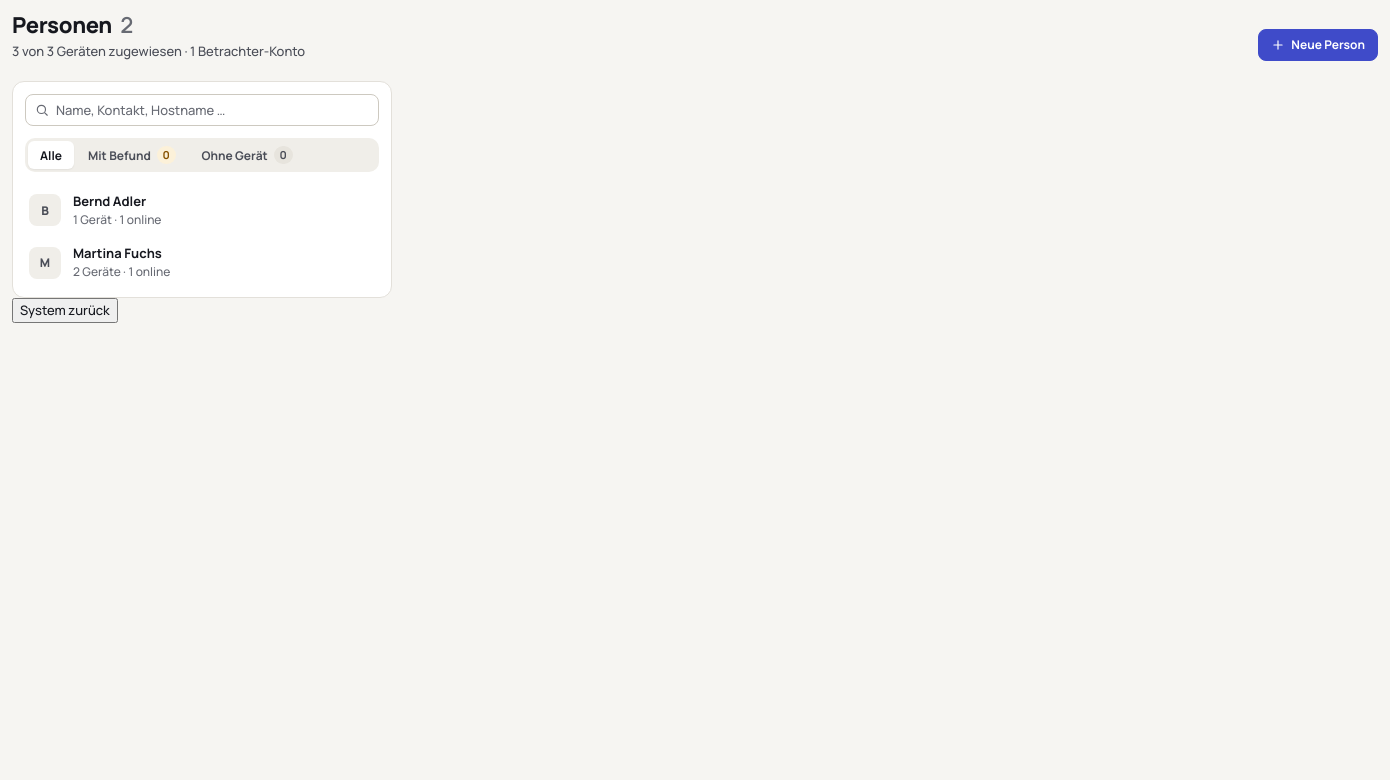
Test: PersonsPage › shows one thing at a time on a narrow screen, with a way back
Expected: the element named "Personenliste" is shown, x1=12 y1=81 x2=392 y2=298
Click the button "M Martina Fuchs 2 Geräte · 1 online".
click(45, 263)  # box x1=21 y1=236 x2=383 y2=289
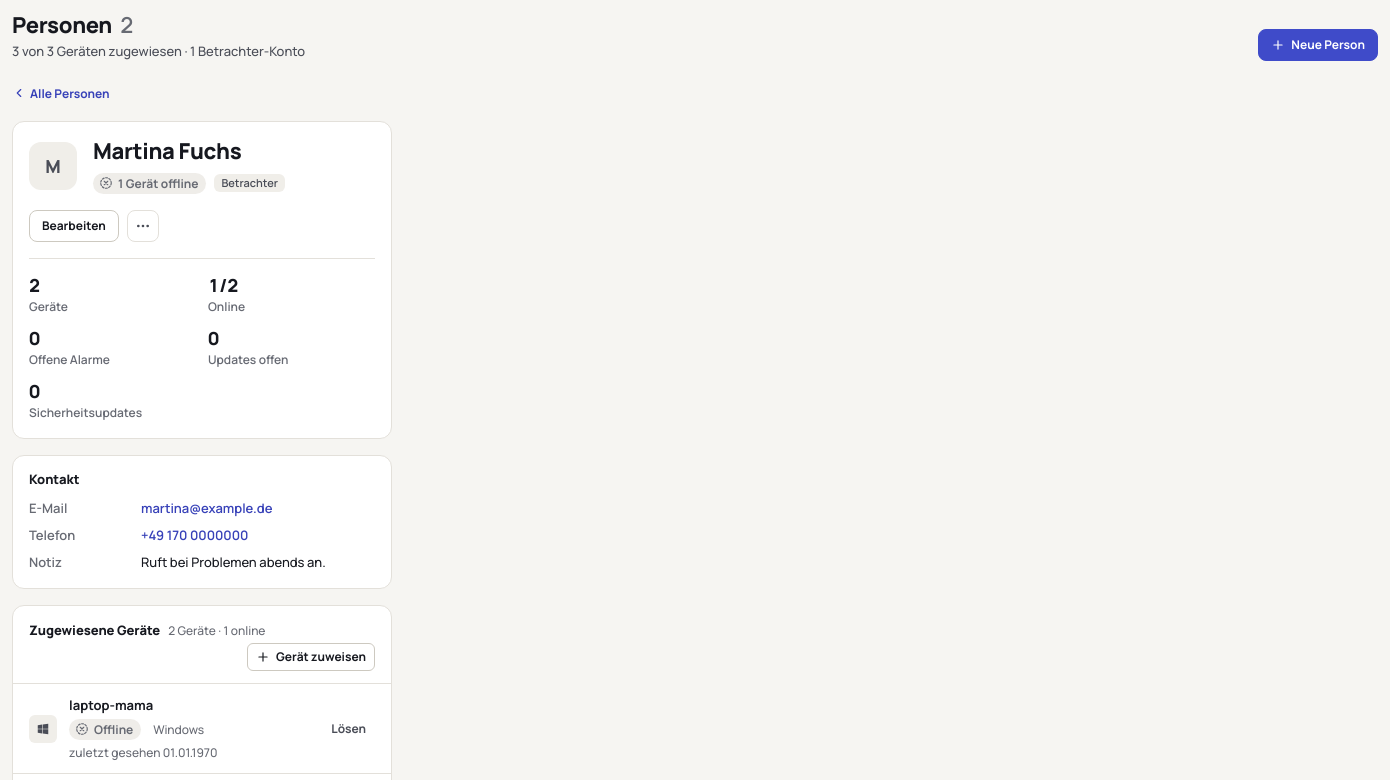
Expected: the element "Personenliste" is gone
Click the button "Alle Personen".
click(61, 93)  # box x1=12 y1=81 x2=110 y2=105
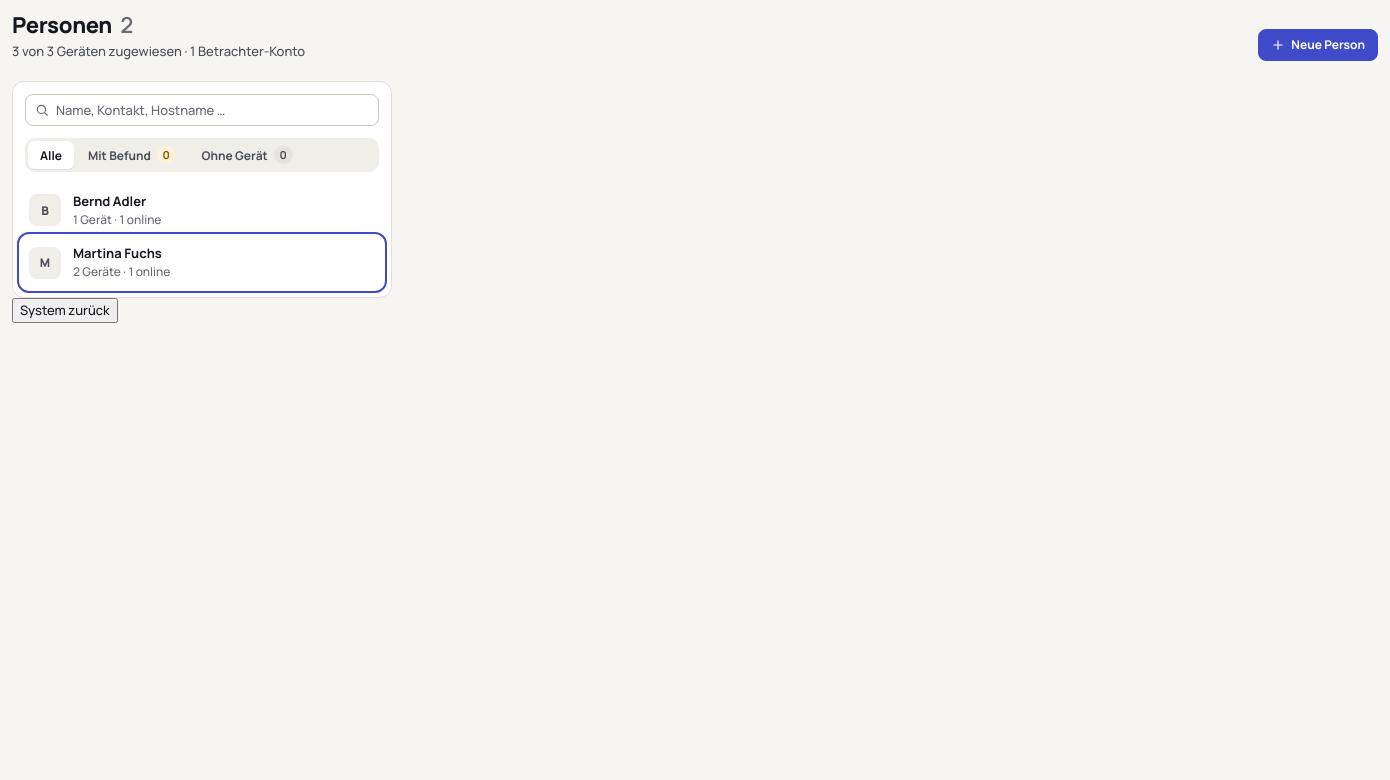
Expected: the element named "Personenliste" is shown, x1=12 y1=81 x2=392 y2=298
